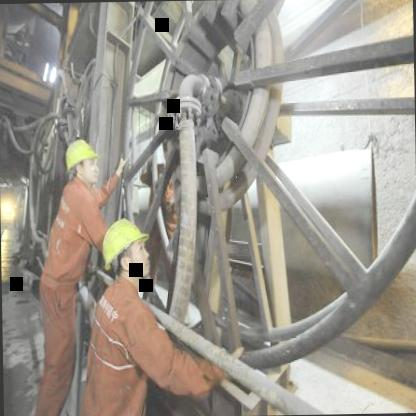helmet: (101, 213, 154, 284), (62, 136, 100, 187)
